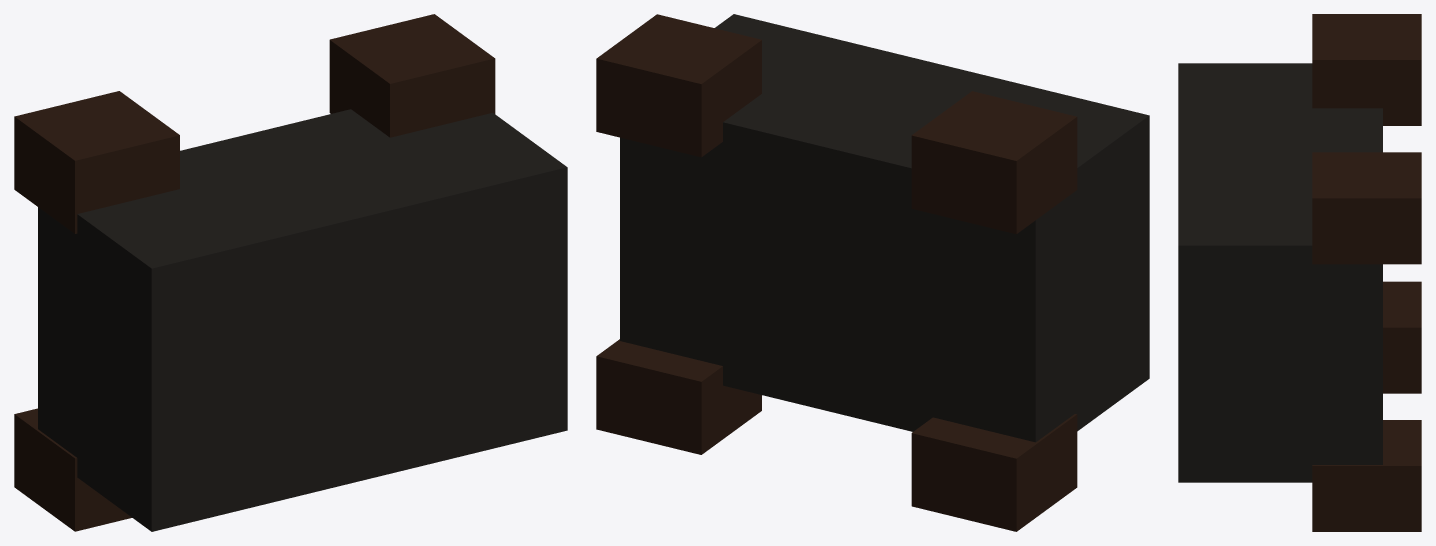
The model's file is SM_IsengardSlagCart.obj.
The picture shows the model from 3 angles, left to right: view 1: azimuth 30°, elevation 25°; view 2: azimuth 150°, elevation 25°; view 3: azimuth 270°, elevation 25°; orthographic projection. The views are drawn at different scales.
Visible parts, largest first — view 1: SM_IsengardSlagCart; view 2: SM_IsengardSlagCart; view 3: SM_IsengardSlagCart.
Boxes of the visible parts, x1=… form: SM_IsengardSlagCart: x1=14, y1=14, x2=567, y2=531; SM_IsengardSlagCart: x1=596, y1=14, x2=1149, y2=531; SM_IsengardSlagCart: x1=1178, y1=14, x2=1421, y2=531.
Bounding box in the file's own units: 192 × 162 × 107.
